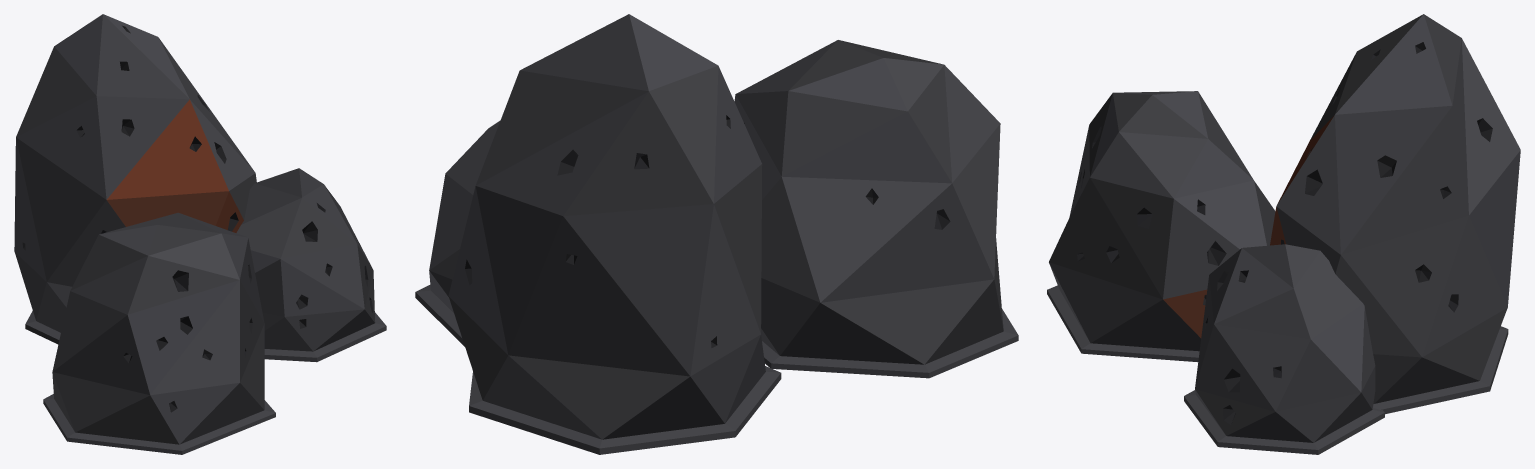
File: volcanic-boulder-cluster-7e29ea.glb
The picture shows the model from 3 angles, left to right: view 1: azimuth 30°, elevation 25°; view 2: azimuth 150°, elevation 25°; view 3: azimuth 270°, elevation 25°; orthographic projection. The views are drawn at different scales.
Visible parts, largest first — view 1: boulders; view 2: boulders; view 3: boulders.
Boxes of the visible parts, box(x1,y1,x2,y2) form: boulders: box(14, 14, 386, 454); boulders: box(415, 14, 1018, 454); boulders: box(1047, 14, 1520, 454).
Bounding box in the file's own units: 1.5 × 1.15 × 1.5.
